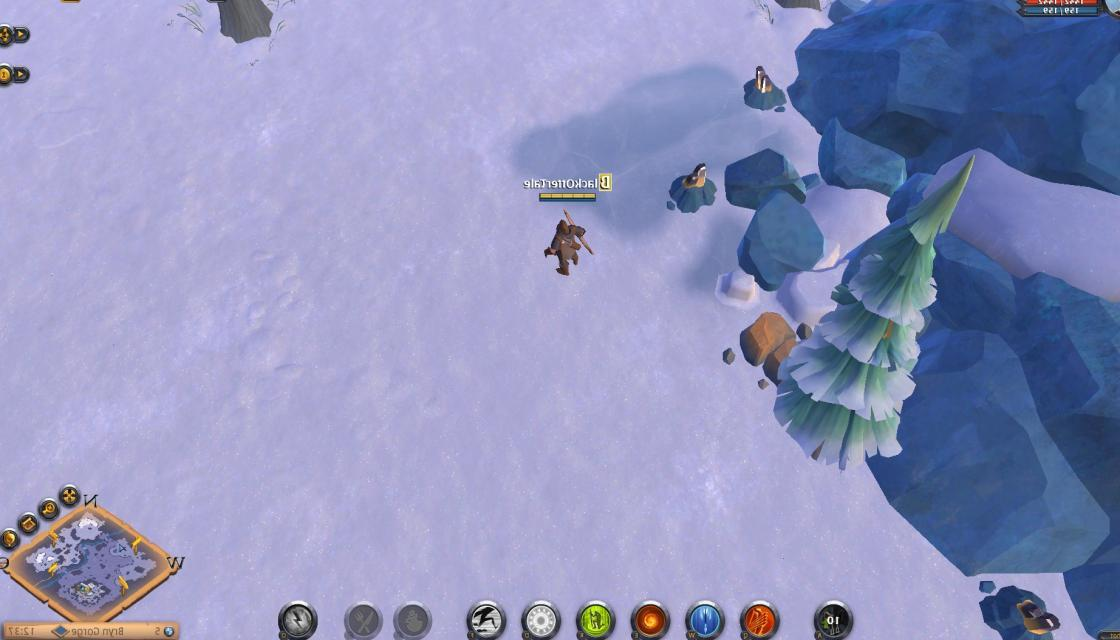copperore: (976, 580, 1064, 640), (664, 160, 722, 215), (739, 65, 793, 112)
limestone: (740, 302, 811, 387)
